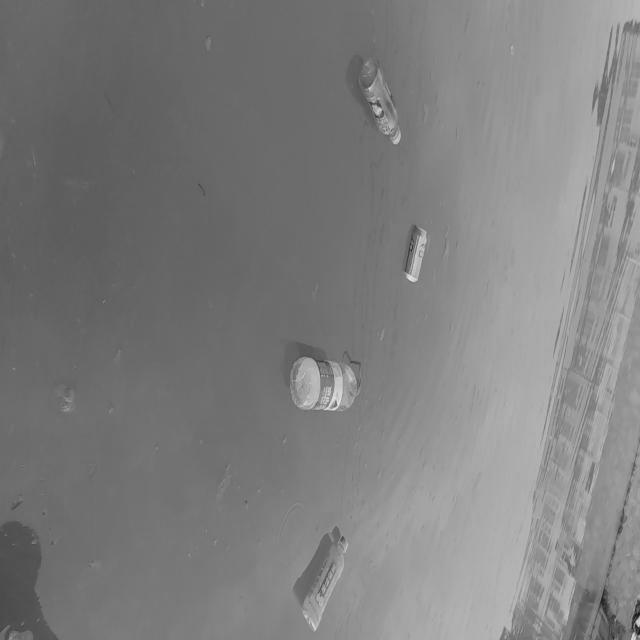bottle: (274, 498, 364, 630), (279, 336, 372, 425), (350, 45, 407, 147)
